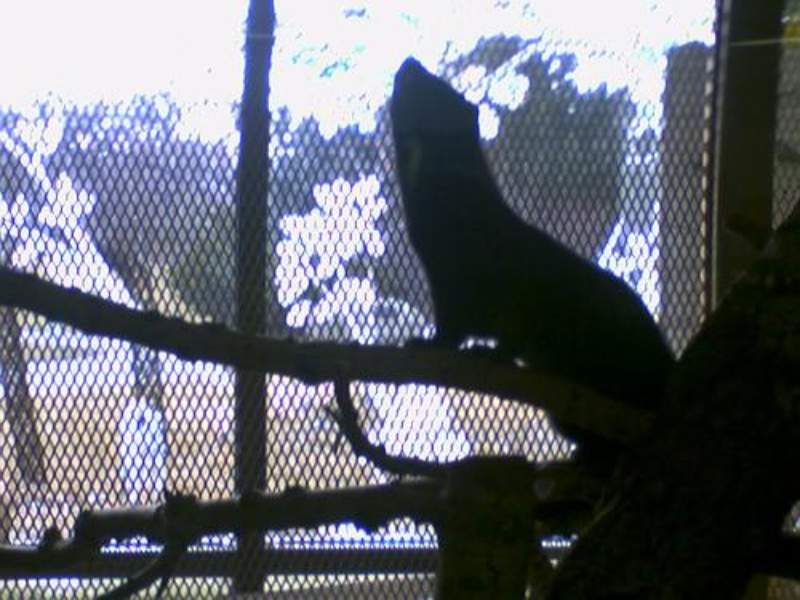minkish: (390, 54, 697, 437)
